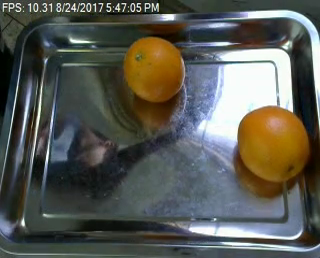Orange: (235, 105, 308, 182), (122, 37, 186, 102)
